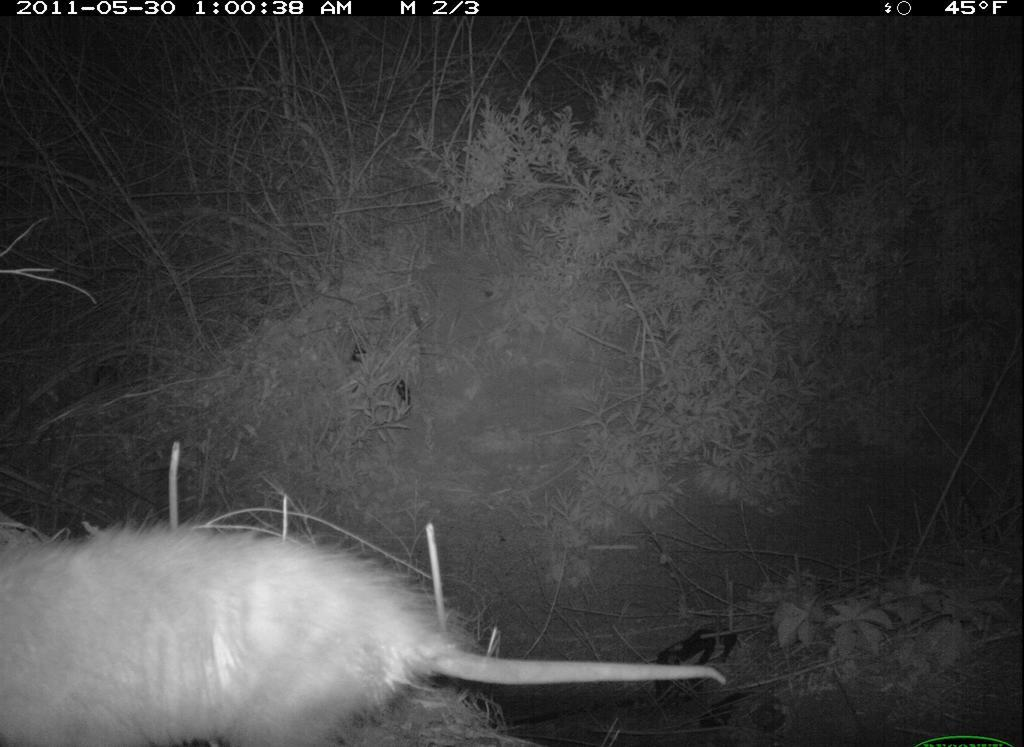opossum: (1, 500, 743, 747)
